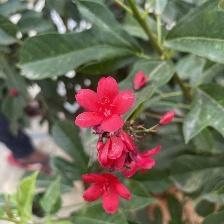jatropha: (76, 76, 136, 133)
